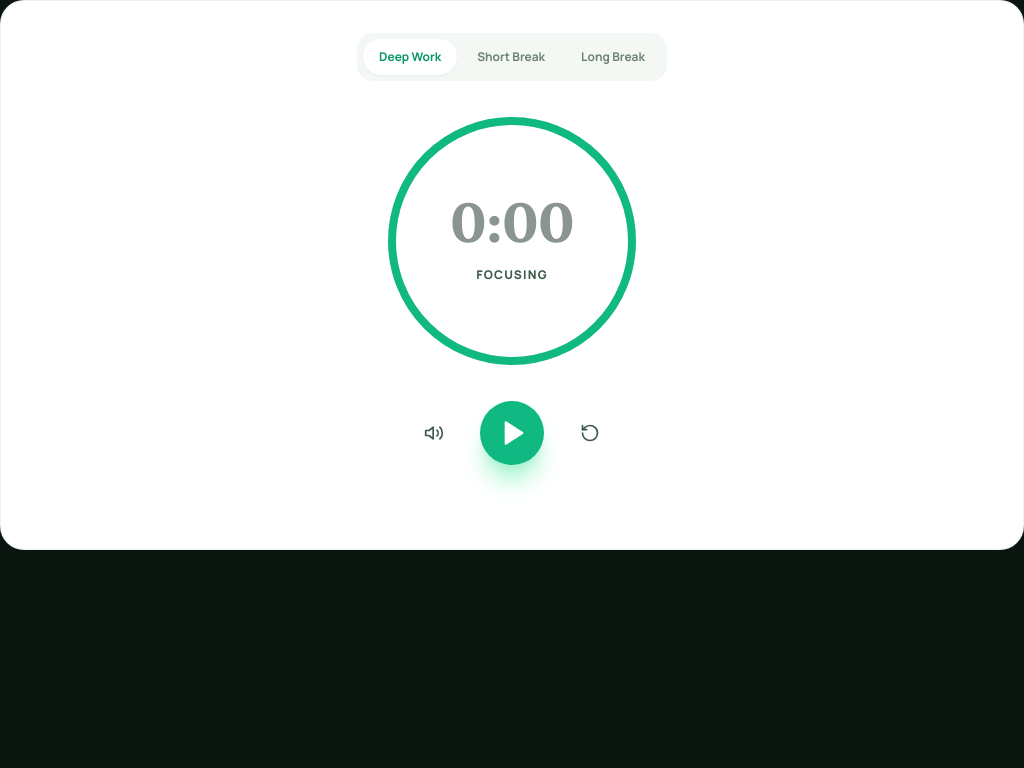
Test: FocusTimer persistence › starts a fresh full session instead of logging again from zero
Click the button named "Start focus timer": (512, 433) [480,401,544,465]
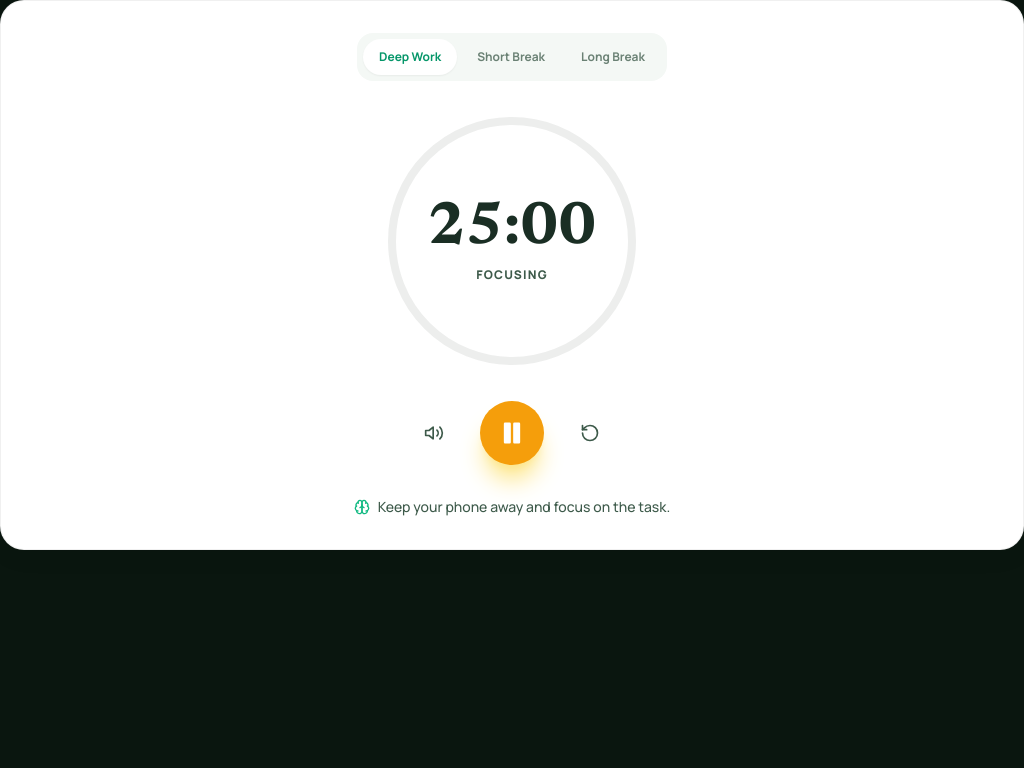
Expected: the text "25:00" is shown, [428,199,596,259]
